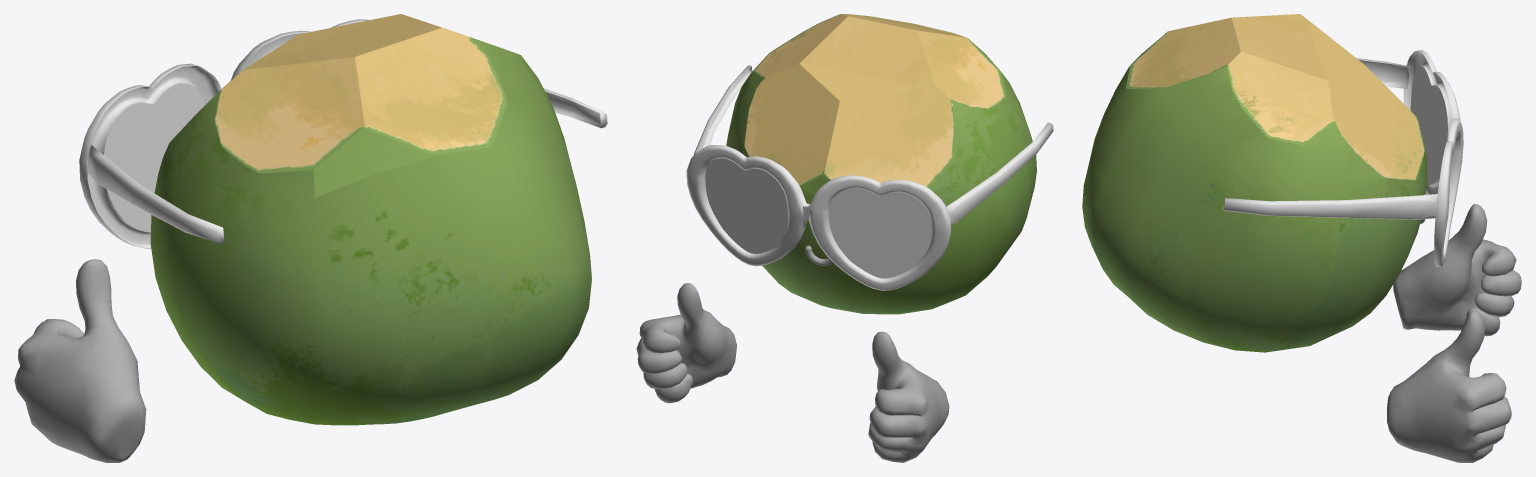
The model's file is CoolCoco5.fbx.
3 views of the same model, side by side, from view 1: azimuth 30°, elevation 25°; view 2: azimuth 150°, elevation 25°; view 3: azimuth 270°, elevation 25° (orthographic). The views are drawn at different scales.
Parts seen in each view (by area): view 1: nut, sunglasses, hand2; view 2: nut, sunglasses, hand1, hand2; view 3: nut, sunglasses, hand1, hand2.
Part boxes in pixels (x1=…): nut: x1=150, y1=14, x2=591, y2=425; sunglasses: x1=79, y1=19, x2=607, y2=248; hand2: x1=14, y1=259, x2=146, y2=462; nut: x1=726, y1=14, x2=1036, y2=314; sunglasses: x1=686, y1=65, x2=1053, y2=290; hand1: x1=636, y1=283, x2=737, y2=403; hand2: x1=868, y1=331, x2=949, y2=462; nut: x1=1082, y1=14, x2=1427, y2=352; sunglasses: x1=1223, y1=50, x2=1463, y2=267; hand1: x1=1387, y1=310, x2=1511, y2=462; hand2: x1=1393, y1=204, x2=1521, y2=336.
Size of the model in its own units: 2.15 by 2.27 by 2.46.
